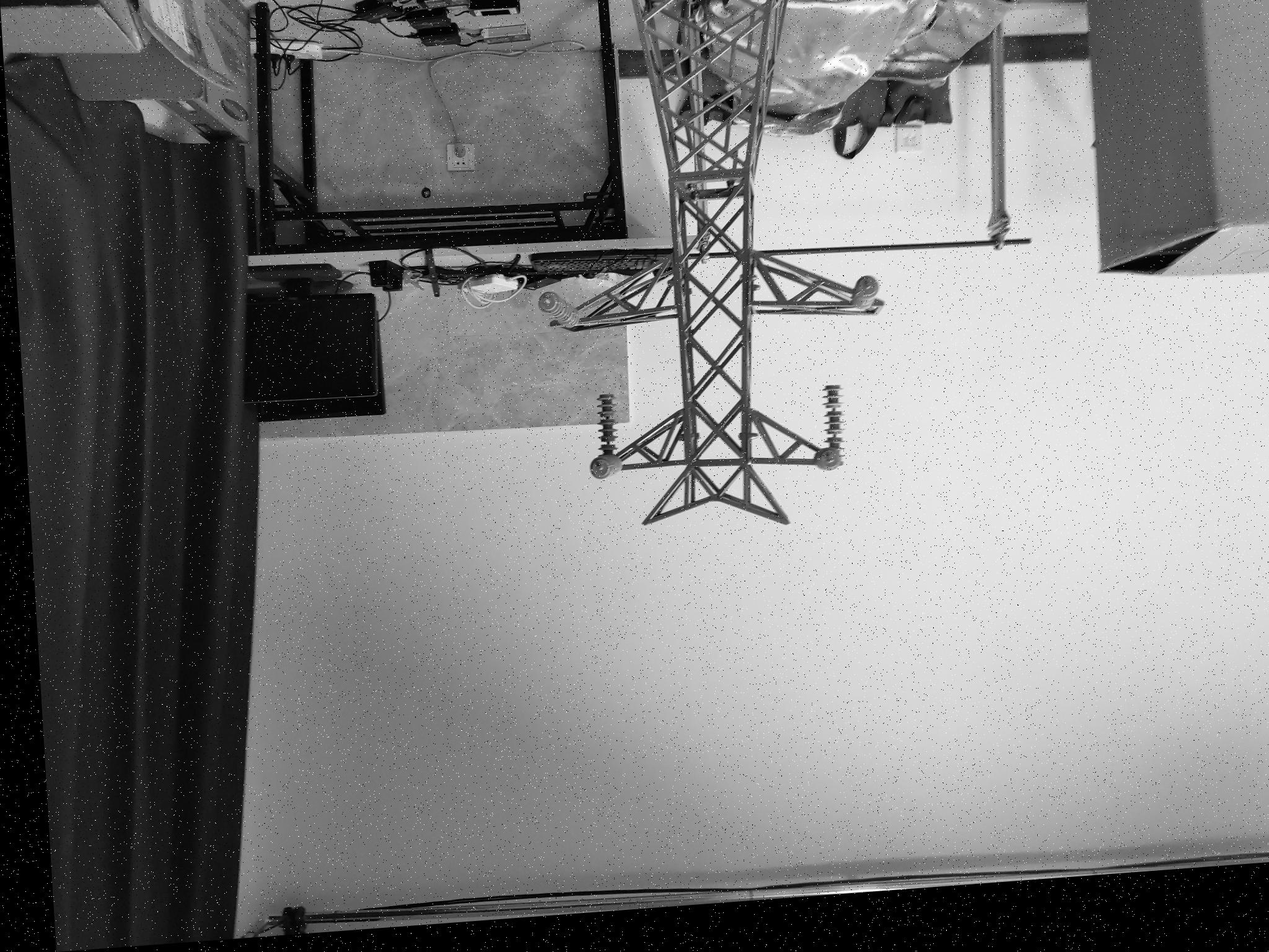tower: (542, 0, 889, 539)
